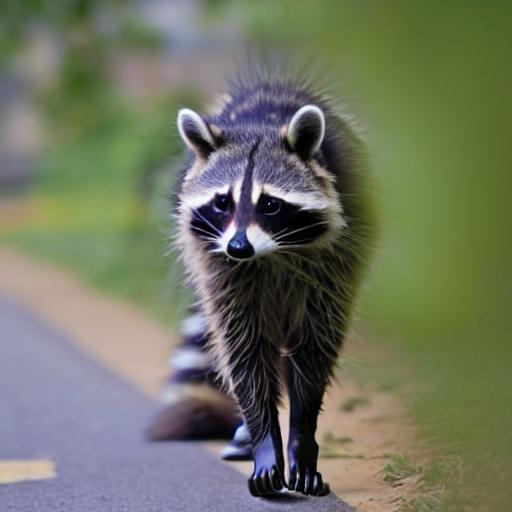raccoon: (129, 71, 387, 438)
